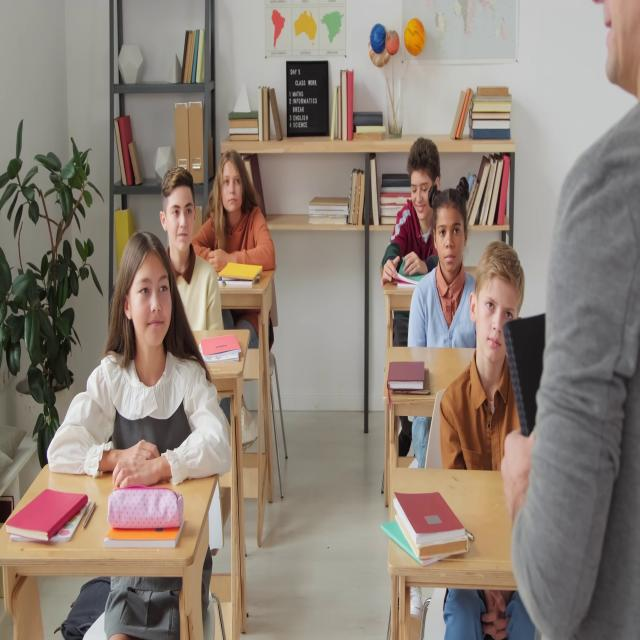listening: (47, 240, 236, 640), (197, 150, 278, 440), (438, 246, 527, 471), (409, 181, 479, 355), (161, 166, 225, 332), (380, 137, 441, 291)
